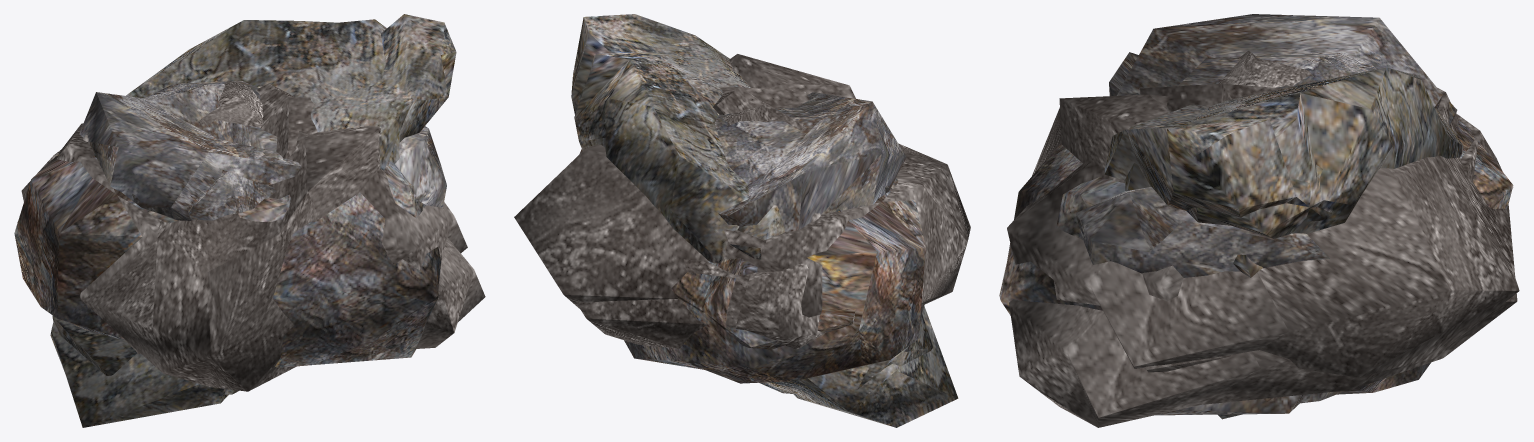
Rendered from GroupStones 1.fbx.
3 views of the same model, side by side, from view 1: azimuth 30°, elevation 25°; view 2: azimuth 150°, elevation 25°; view 3: azimuth 270°, elevation 25° (orthographic). The views are drawn at different scales.
Visible parts, largest first — view 1: Rock_06, Rock_02, Rock_03, Rock_12, Rock_16, Rock_04, Rock_05, Rock_07, Rock_17, Rock_18, Rock_10; view 2: Rock_06, Rock_02, Rock_12, Rock_03, Rock_16, Rock_05, Rock_04, Rock_07, Rock_14, Rock_13, Rock_10; view 3: Rock_06, Rock_12, Rock_05, Rock_03, Rock_16, Rock_17, Rock_02, Rock_04, Rock_07, Rock_10, Rock_18, Rock_13.
Boxes of the visible parts, box(x1,y1,x2,y2) form: Rock_06: box(57, 123, 467, 391); Rock_02: box(14, 154, 441, 367); Rock_03: box(50, 14, 456, 427); Rock_12: box(52, 19, 399, 394); Rock_16: box(79, 92, 301, 220); Rock_04: box(132, 81, 277, 203); Rock_05: box(21, 149, 485, 348); Rock_07: box(83, 83, 317, 353); Rock_17: box(395, 126, 446, 207); Rock_18: box(186, 170, 275, 220); Rock_10: box(198, 80, 263, 127); Rock_06: box(514, 54, 970, 317); Rock_02: box(624, 178, 925, 383); Rock_12: box(574, 52, 932, 393); Rock_03: box(571, 14, 958, 427); Rock_16: box(718, 92, 906, 231); Rock_05: box(575, 259, 824, 349); Rock_04: box(714, 107, 889, 192); Rock_07: box(713, 87, 924, 312); Rock_14: box(674, 293, 855, 349); Rock_13: box(730, 190, 840, 259); Rock_10: box(722, 104, 805, 130); Rock_06: box(1007, 88, 1519, 377); Rock_12: box(1124, 67, 1463, 419); Rock_05: box(1009, 113, 1517, 427); Rock_03: box(1104, 104, 1331, 221); Rock_16: box(1116, 14, 1442, 415); Rock_17: box(1076, 187, 1329, 277); Rock_02: box(999, 121, 1513, 394); Rock_04: box(1178, 51, 1376, 403); Rock_07: box(1140, 83, 1282, 301); Rock_10: box(1218, 50, 1313, 87); Rock_18: box(1109, 52, 1138, 96); Rock_13: box(1233, 101, 1457, 277).
Size of the model in its own units: 1.88 by 1.53 by 1.81.
